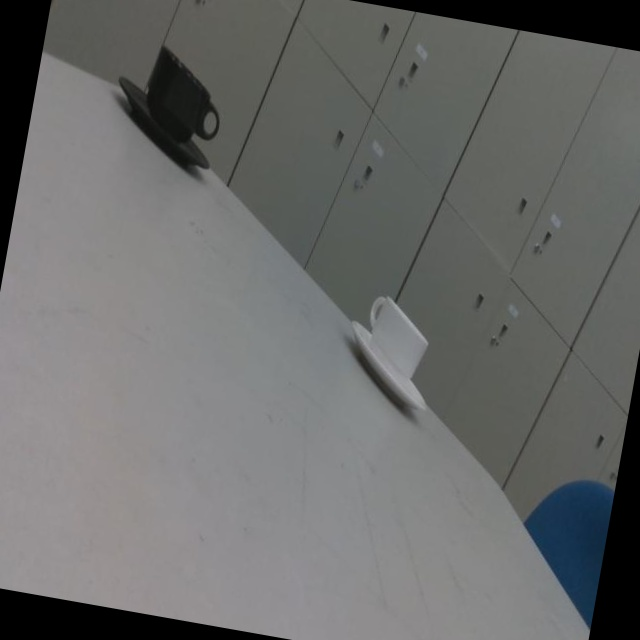black: (114, 43, 223, 164)
white: (345, 295, 438, 413)
